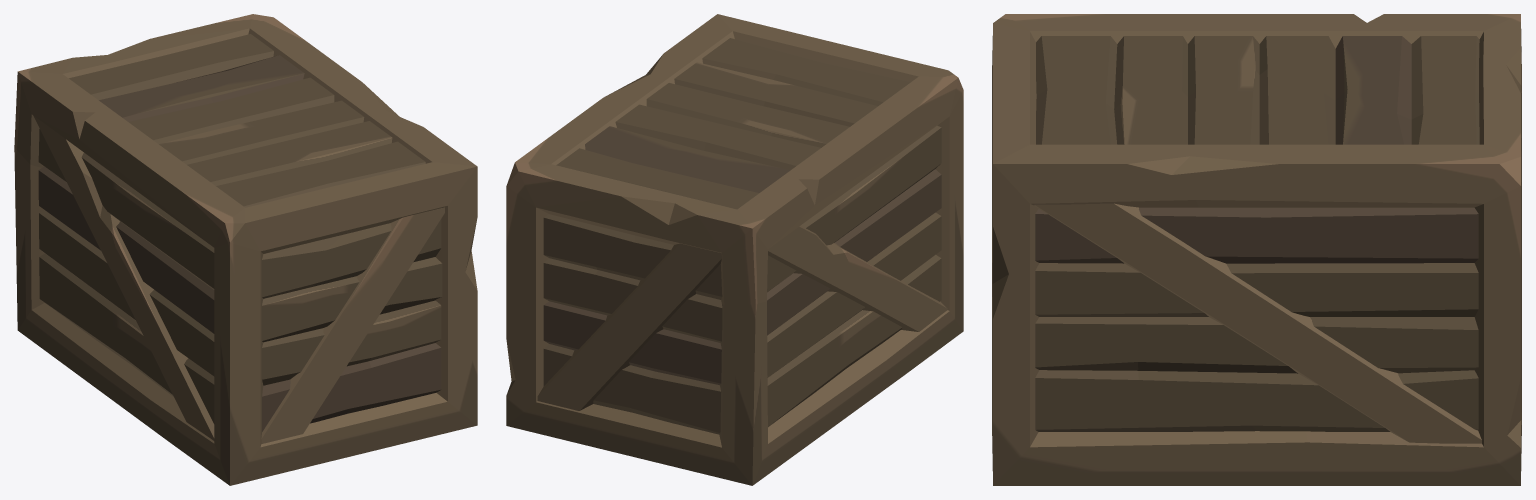
Rendered from crate_1.glb.
3 renders of one model, left to right at view 1: azimuth 30°, elevation 25°; view 2: azimuth 150°, elevation 25°; view 3: azimuth 270°, elevation 25°, orthographic. The views are drawn at different scales.
Visible parts, largest first — view 1: SM_Prop_Camp_Crate_01; view 2: SM_Prop_Camp_Crate_01; view 3: SM_Prop_Camp_Crate_01.
Part boxes in pixels (bbox=[...]): SM_Prop_Camp_Crate_01: bbox=[14, 14, 477, 485]; SM_Prop_Camp_Crate_01: bbox=[506, 14, 963, 485]; SM_Prop_Camp_Crate_01: bbox=[992, 14, 1521, 485].
Bounding box in the file's own units: 0.5452 × 0.5401 × 0.8001.
Materials: 1 (1 with a texture image).
